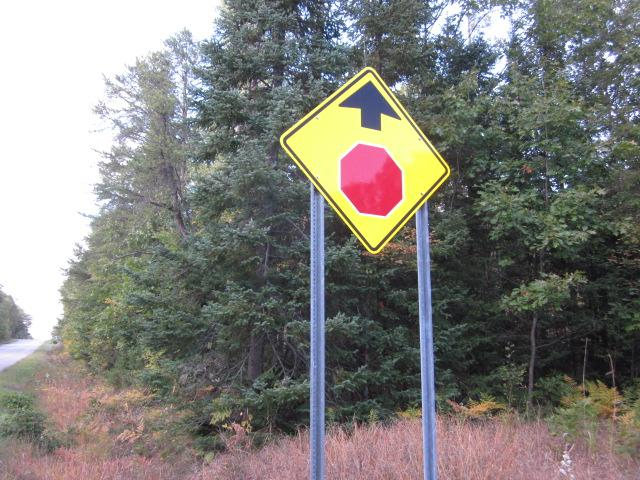stop: (338, 141, 407, 217)
warning: (275, 64, 457, 258)
